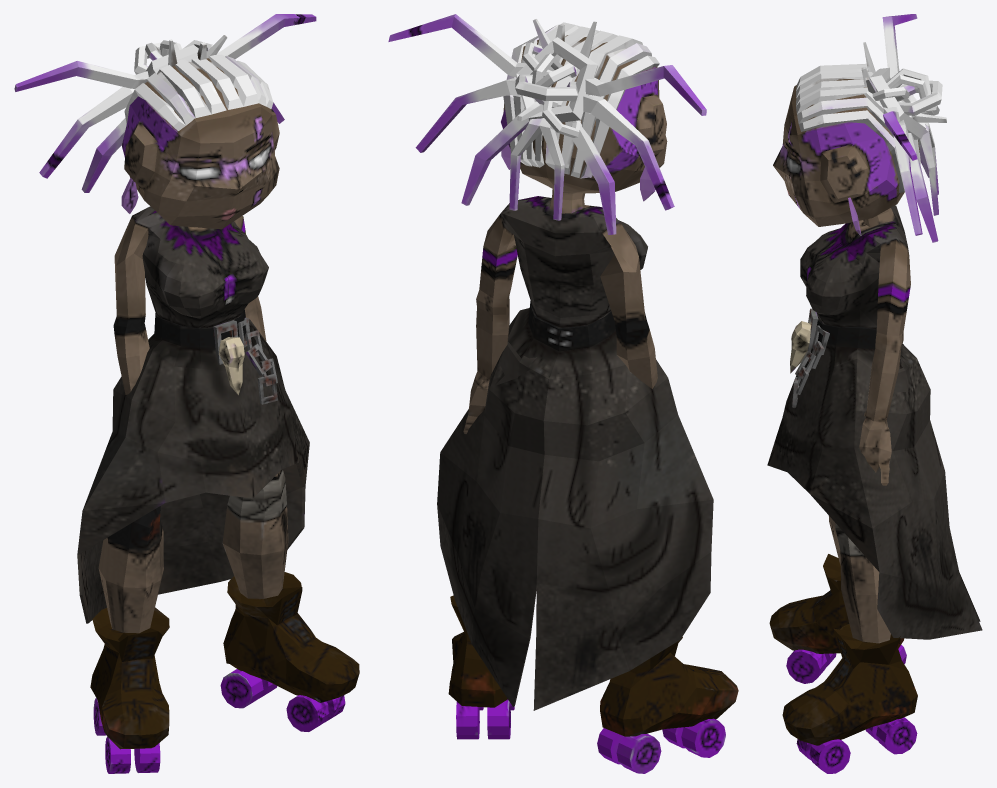
The model's file is bruja_000048.obj.
3 views of the same model, side by side, from view 1: azimuth 30°, elevation 25°; view 2: azimuth 150°, elevation 25°; view 3: azimuth 270°, elevation 25° (orthographic). The views are drawn at different scales.
Visible parts, largest first — view 1: Bruja_Plane.001; view 2: Bruja_Plane.001; view 3: Bruja_Plane.001.
Boxes of the visible parts, x1,y1,x2,y2 form: Bruja_Plane.001: [14, 14, 359, 773]; Bruja_Plane.001: [388, 14, 738, 773]; Bruja_Plane.001: [767, 14, 982, 773].
Bounding box in the file's own units: 7.48 × 16.58 × 4.86.
